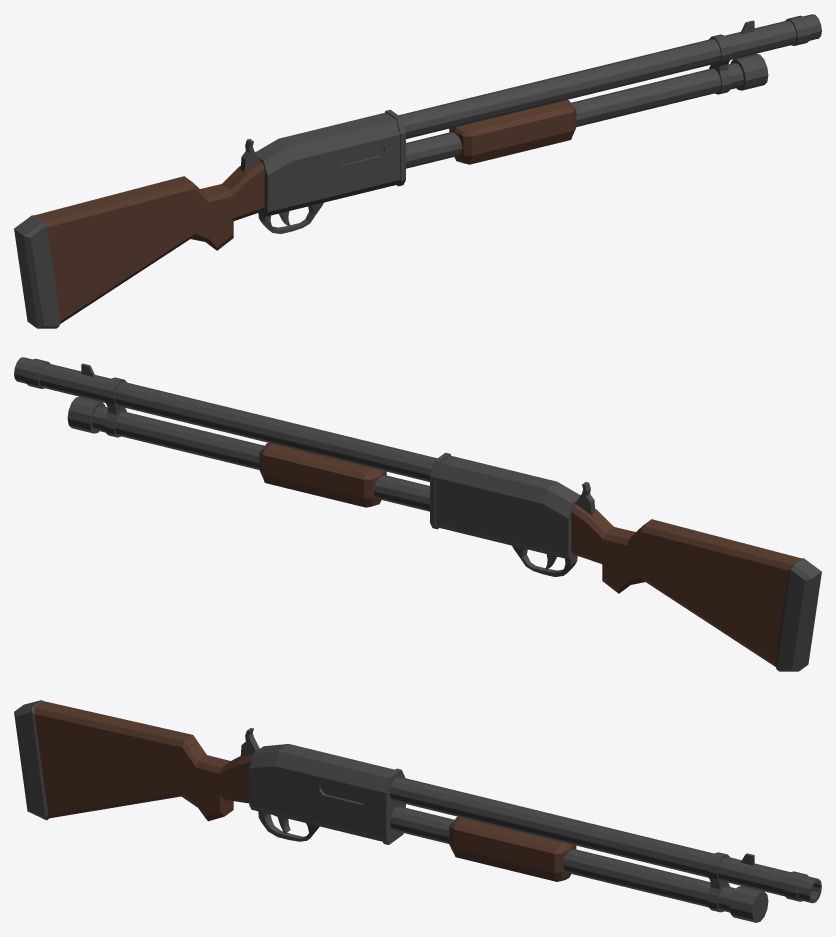
Rendered from Shotgun.fbx.
3 views of the same model, one above another, from view 1: azimuth 30°, elevation 25°; view 2: azimuth 150°, elevation 25°; view 3: azimuth 330°, elevation 25° (orthographic).
Parts seen in each view (by area): view 1: Shotgun_3; view 2: Shotgun_3; view 3: Shotgun_3.
Boxes of the visible parts, x1,y1,x2,y2 form: Shotgun_3: (14,14,821,328); Shotgun_3: (14,357,821,671); Shotgun_3: (14,700,821,922).
Bounding box in the file's own units: 578 × 94.27 × 24.65.
